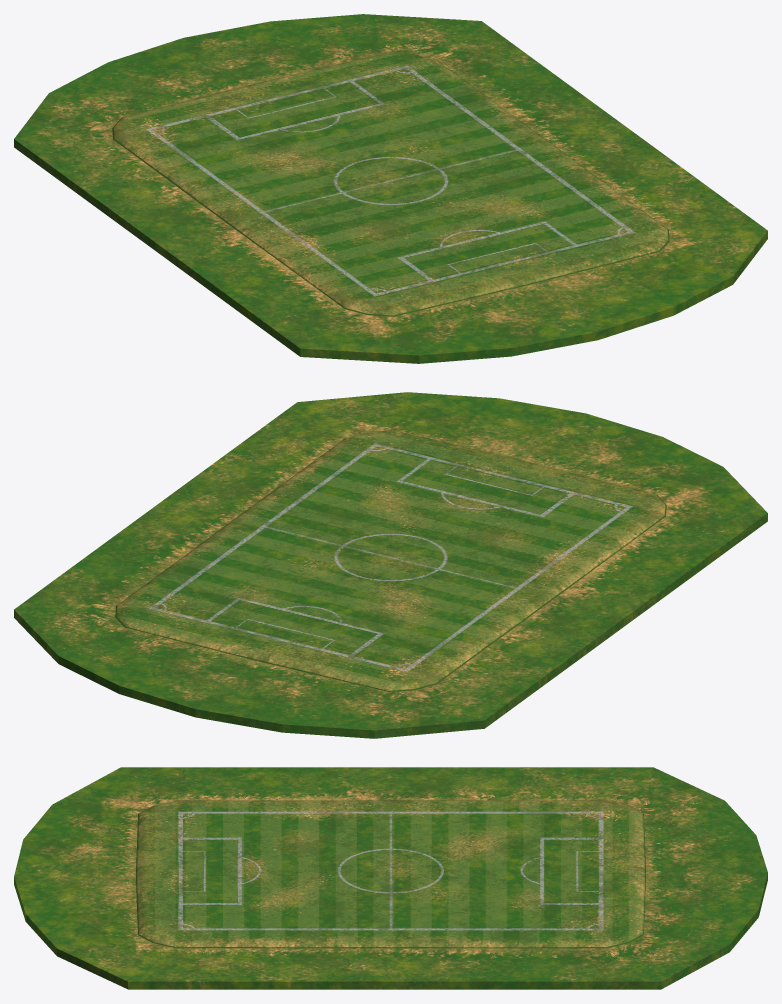
The model's file is SoccerField.fbx.
3 renders of one model, top to bottom at view 1: azimuth 30°, elevation 25°; view 2: azimuth 150°, elevation 25°; view 3: azimuth 270°, elevation 25°, orthographic. The views are drawn at different scales.
Parts seen in each view (by area): view 1: BenchArea, SoccerField; view 2: BenchArea, SoccerField; view 3: BenchArea, SoccerField.
Boxes of the visible parts, bbox=[...] form: BenchArea: bbox=[14, 14, 767, 363]; SoccerField: bbox=[112, 52, 669, 316]; BenchArea: bbox=[14, 392, 767, 738]; SoccerField: bbox=[115, 430, 666, 691]; BenchArea: bbox=[14, 767, 767, 989]; SoccerField: bbox=[135, 800, 646, 948].
Size of the model in its own units: 12428 by 477 by 18479.
Materials: 1 (1 with a texture image).
